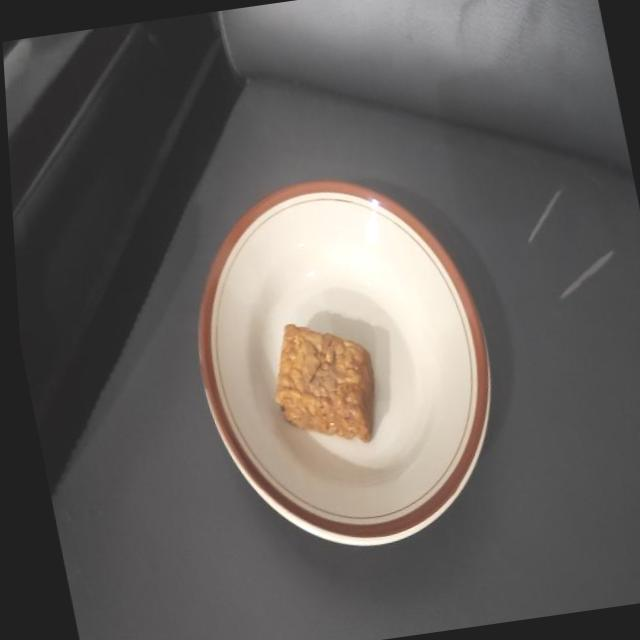tempe_goreng: (276, 324, 374, 442)
